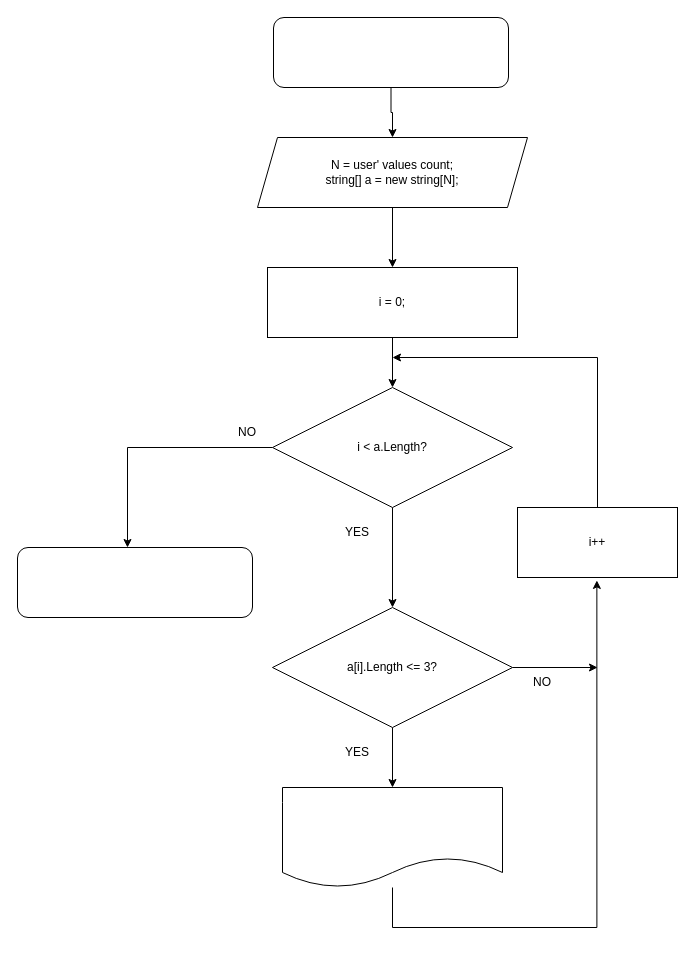
Some shapes in this 695 by 953 pixel diagram are drawn without their labels. Here are the shapes that lost their labels. From the top down, the centre of each, then its label:
At pixel 390 52: "BEGIN".
At pixel 134 582: "END".
At pixel 392 837: "Write(a[i])".
